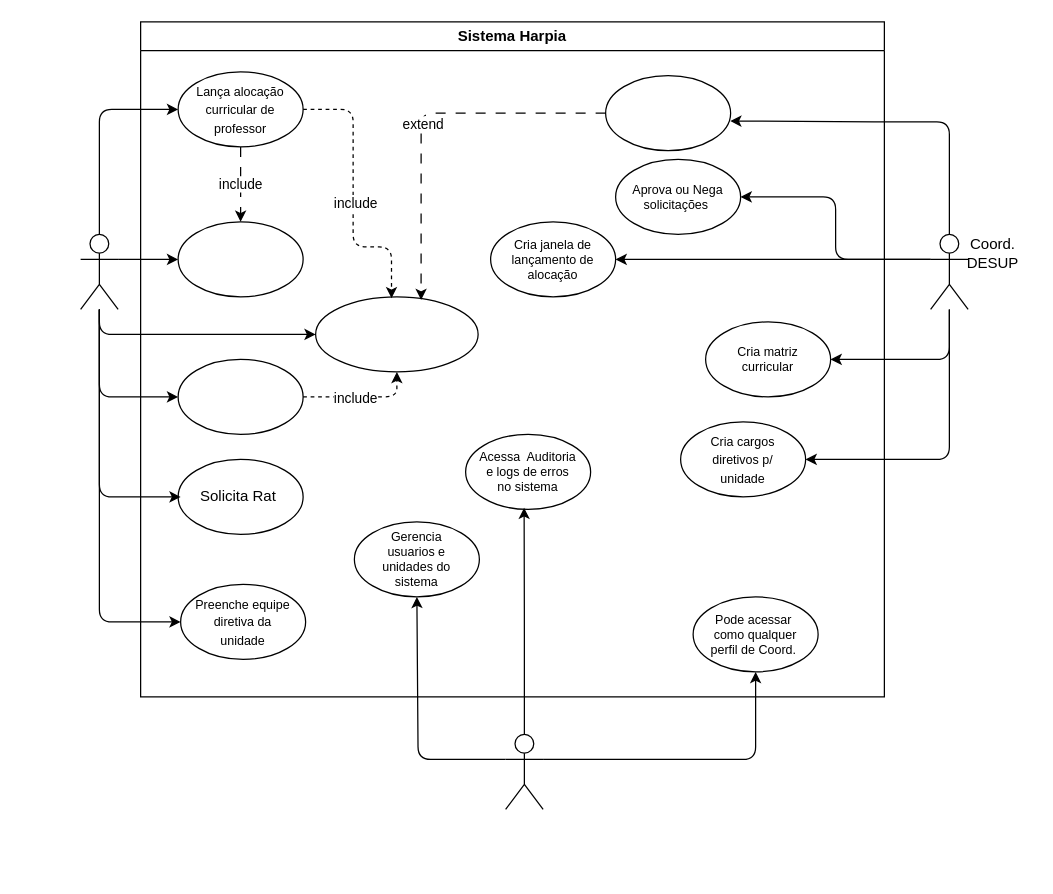
Image size: 1053x894. Some labels were removed from this diagram. Each missing label, with the centre of its shape:
"Administrador do sistema" belongs at pixel 523 771.
"Coord. Unidade" belongs at pixel 98 271.
"Cria e gerencia unidade e usuarios" belongs at pixel 667 112.
"Gerencia professor (cadastro/solicitar/editar)" belongs at pixel 396 334.
"Lança alocação extracurricular de professor" belongs at pixel 240 396.
"Visualizar a matriz curricular" belongs at pixel 240 259.
